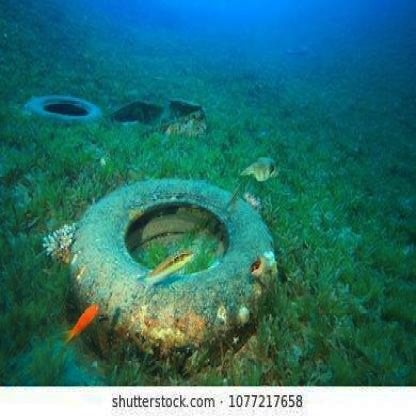misc: (109, 90, 212, 146)
tire: (57, 171, 284, 362), (19, 86, 99, 138)
